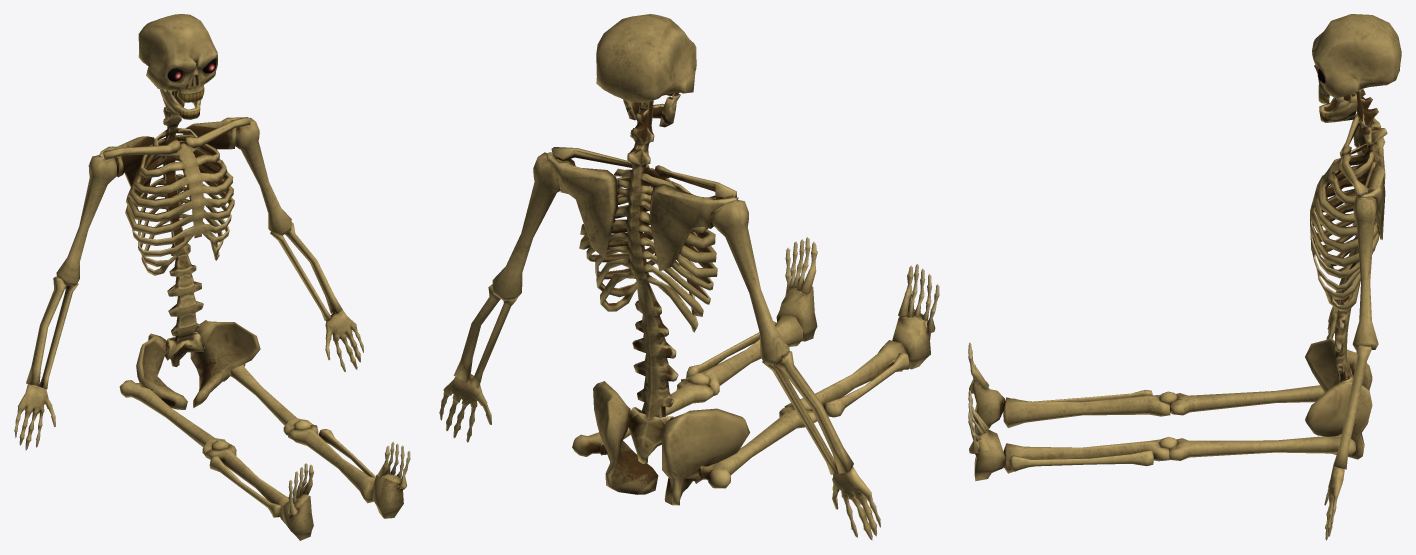
Rendered from SkeletonDecoration.fbx.
3 renders of one model, left to right at view 1: azimuth 30°, elevation 25°; view 2: azimuth 150°, elevation 25°; view 3: azimuth 270°, elevation 25°, orthographic. The views are drawn at different scales.
Parts seen in each view (by area): view 1: SkeletonDecoration; view 2: SkeletonDecoration; view 3: SkeletonDecoration.
Part boxes in pixels (x1,y1,x2,y2): SkeletonDecoration: [14, 14, 410, 540]; SkeletonDecoration: [439, 14, 939, 540]; SkeletonDecoration: [968, 14, 1401, 540].
Bounding box in the file's own units: 75.92 × 80.4 × 72.41.
